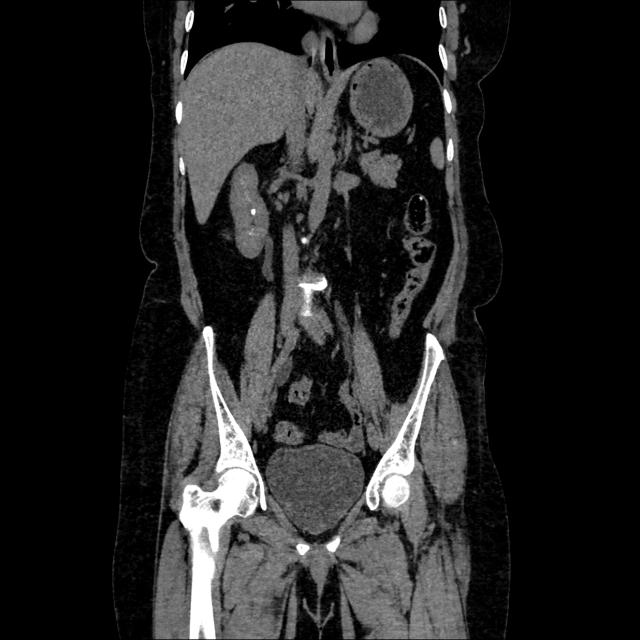kidney: (228, 159, 270, 259)
stone: (251, 208, 255, 215)
